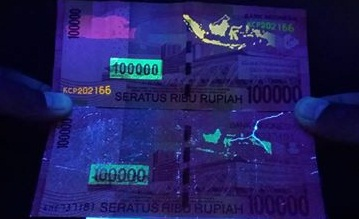100_RIBU_ASLI: (88, 164, 151, 187), (109, 57, 164, 82)
